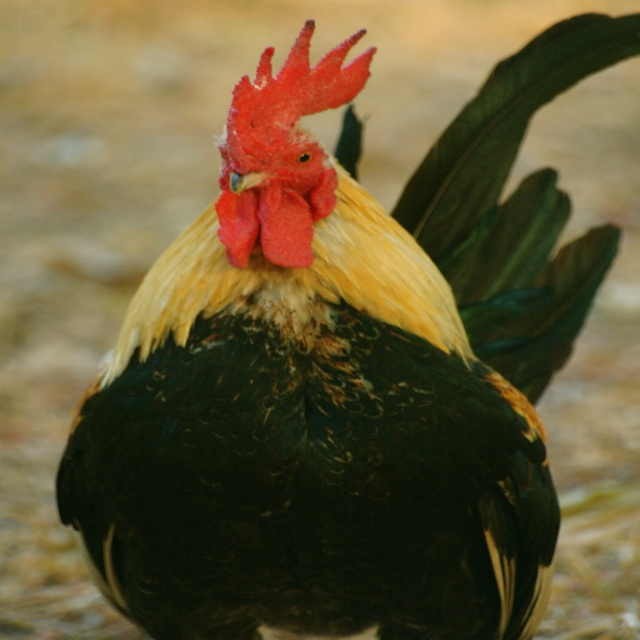Chicken: (41, 0, 639, 640)
